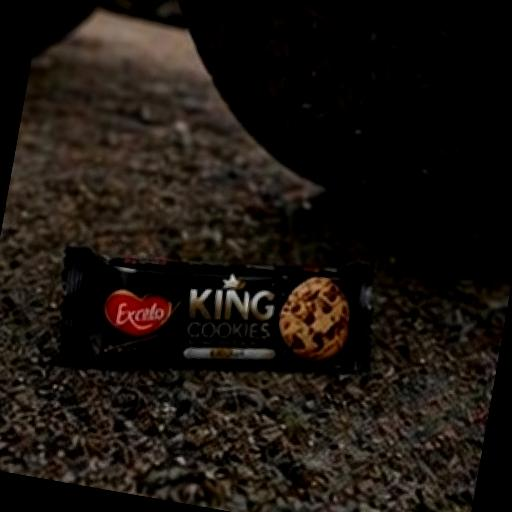king-cooking: (9, 163, 473, 474)
